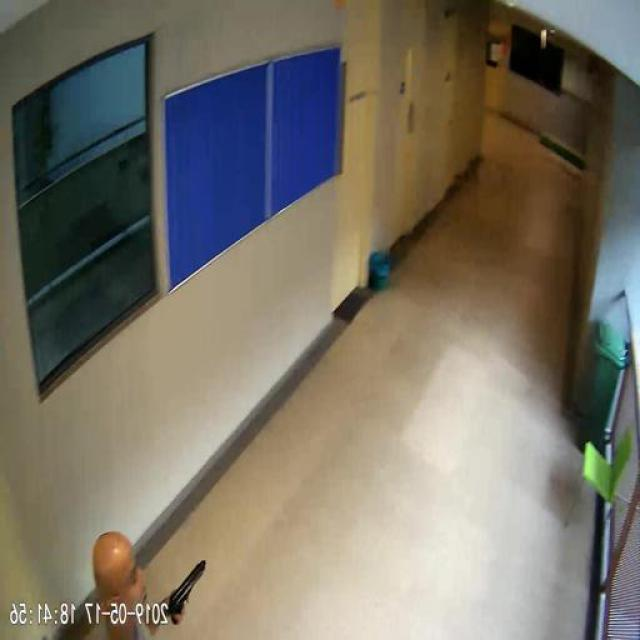Gun: (169, 558, 209, 622)
